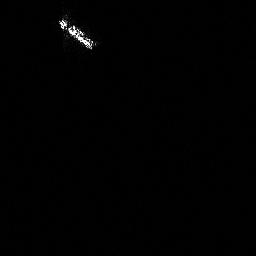ship: (55, 13, 99, 53)
